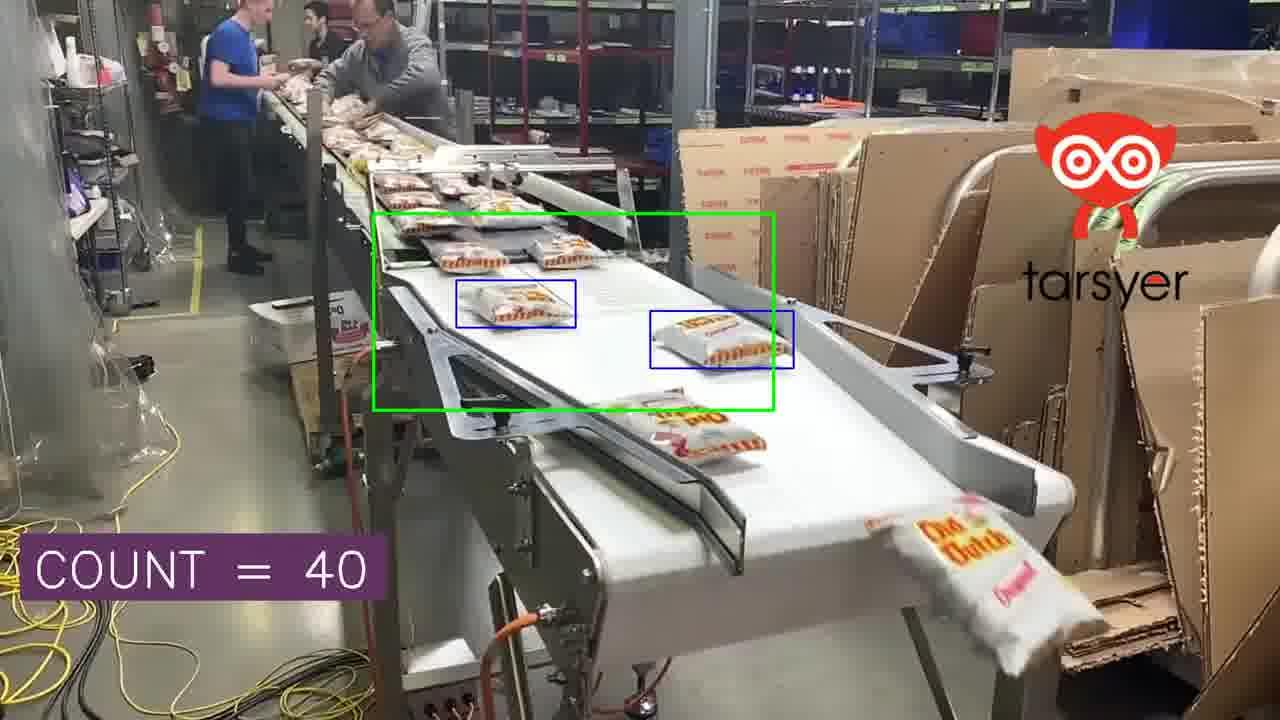Snack: (868, 496, 1106, 676), (601, 389, 766, 464), (654, 312, 792, 367), (466, 282, 575, 327), (460, 191, 546, 229), (528, 230, 609, 268), (425, 239, 511, 274), (391, 210, 461, 239), (433, 174, 488, 198), (324, 94, 366, 125), (322, 126, 369, 153), (380, 191, 442, 210), (374, 173, 430, 193), (390, 134, 433, 159), (278, 73, 311, 105), (361, 120, 401, 143), (287, 58, 323, 73)
